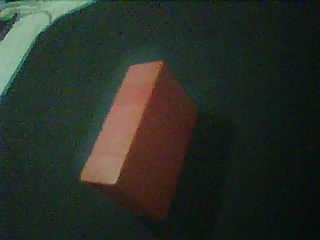lego: (78, 60, 198, 221)
